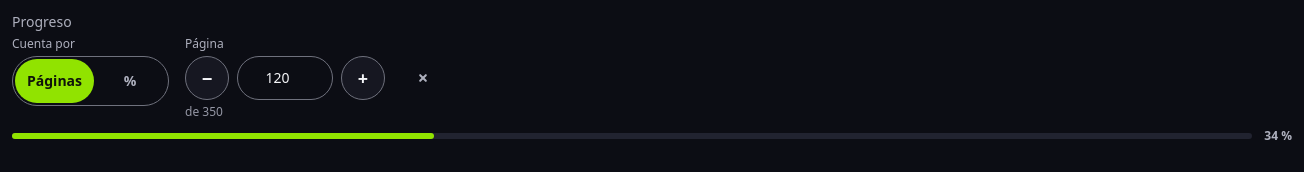
ProgressInput › libro: páginas con −/+ (de 10 en 10), «de 350» y el % en texto
The image size is (1304, 172).
Expected: the text "de 350" is shown, [185,103,223,120]
Expected: the text "34 %" is shown, [1264,128,1292,144]
What coordinates should you click on to do the following:
click the button named "Más páginas"
I would click on:
 (363, 78)
Its box is [341,56,385,100].
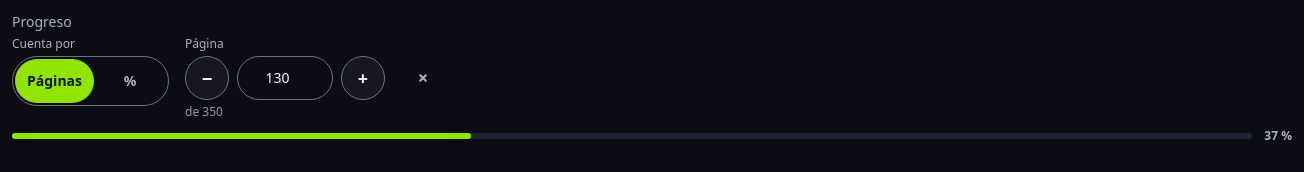
Result: the number field labelled "Página" holds "130" at [237,56,333,100]
